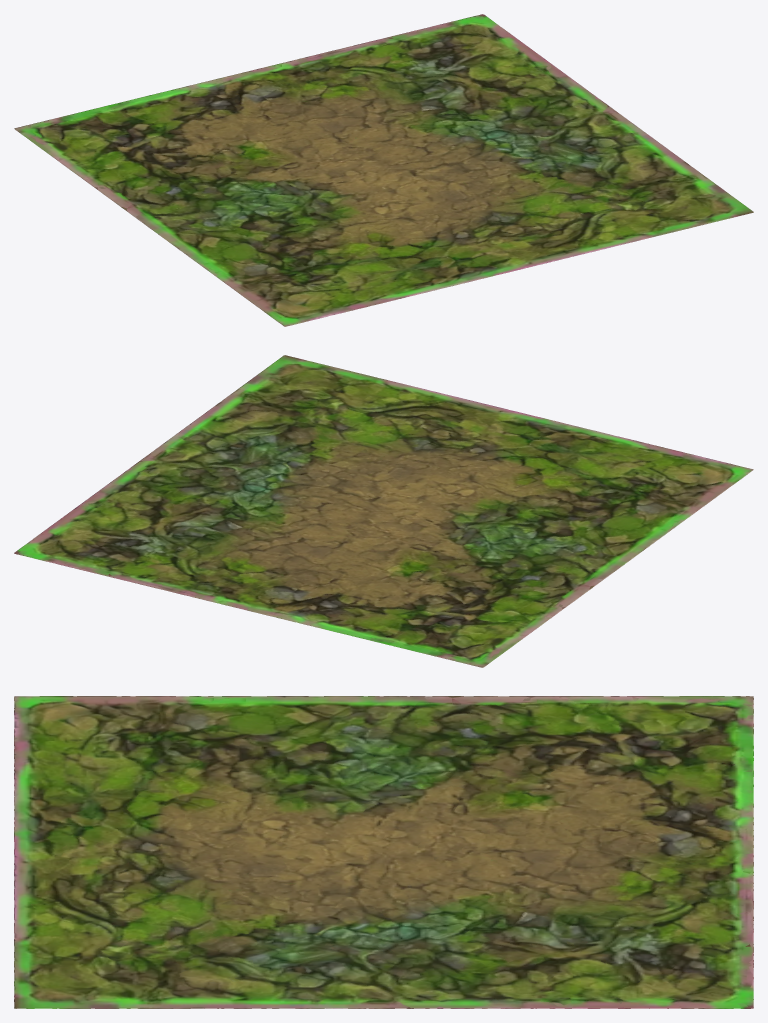
File: ForestFloor_BrambleEdge_A_UnrealReady.glb
The picture shows the model from 3 angles, top to bottom: view 1: azimuth 30°, elevation 25°; view 2: azimuth 150°, elevation 25°; view 3: azimuth 270°, elevation 25°; orthographic projection. The views are drawn at different scales.
Visible parts, largest first — view 1: ForestFloor_BrambleEdge_A_UnrealReady; view 2: ForestFloor_BrambleEdge_A_UnrealReady; view 3: ForestFloor_BrambleEdge_A_UnrealReady.
Part boxes in pixels (<box>): ForestFloor_BrambleEdge_A_UnrealReady: <box>14,14,753,326</box>; ForestFloor_BrambleEdge_A_UnrealReady: <box>14,355,753,667</box>; ForestFloor_BrambleEdge_A_UnrealReady: <box>14,696,753,1008</box>.
Bounding box in the file's own units: 6 × 0.24 × 6.
1 material, 1 textured.
